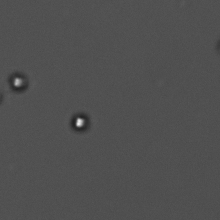Living Cell: (6, 69, 33, 93), (69, 108, 91, 134)
